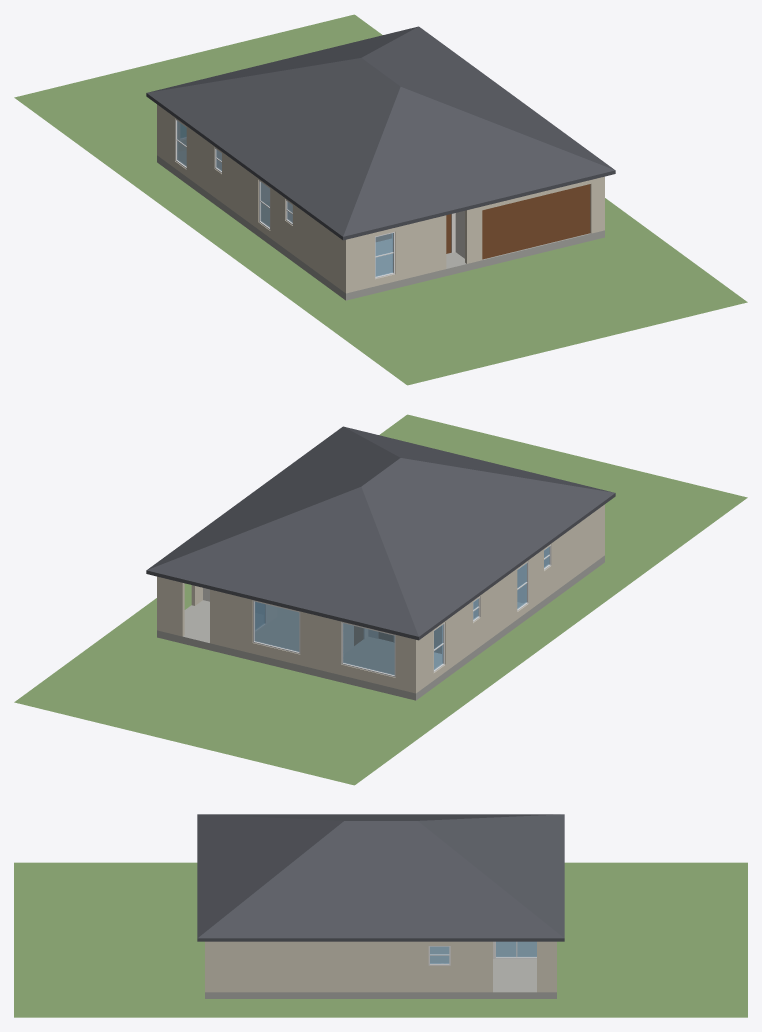
3 renders of one model, top to bottom at view 1: azimuth 30°, elevation 25°; view 2: azimuth 150°, elevation 25°; view 3: azimuth 270°, elevation 25°, orthographic. The views are drawn at different scales.
Parts seen in each view (by area): view 1: SITE, ROOF, ext-left, ext-front, GD, SLAB-L1, N01; view 2: SITE, ROOF, ext-back, ext-left, SLAB-L1, S01, S02; view 3: SITE, ROOF, ext-right, SLAB-L1, D13, N09.
Boxes of the visible parts, <box> form: SITE: <box>14,14,747,385</box>; ROOF: <box>146,26,615,240</box>; ext-left: <box>159,106,343,291</box>; ext-front: <box>344,176,604,293</box>; GD: <box>482,184,590,259</box>; SLAB-L1: <box>157,150,604,300</box>; N01: <box>375,233,393,276</box>; SITE: <box>14,414,747,785</box>; ROOF: <box>146,426,615,640</box>; ext-back: <box>157,576,417,693</box>; ext-left: <box>418,506,602,691</box>; SLAB-L1: <box>157,555,604,700</box>; S01: <box>343,623,394,675</box>; S02: <box>254,601,299,651</box>; SITE: <box>14,862,747,1017</box>; ROOF: <box>197,814,564,941</box>; ext-right: <box>208,941,553,992</box>; SLAB-L1: <box>205,942,556,998</box>; D13: <box>496,941,536,957</box>; N09: <box>430,946,449,963</box>.
Bounding box in the file's own units: 15.24 × 5.46 × 30.48.
